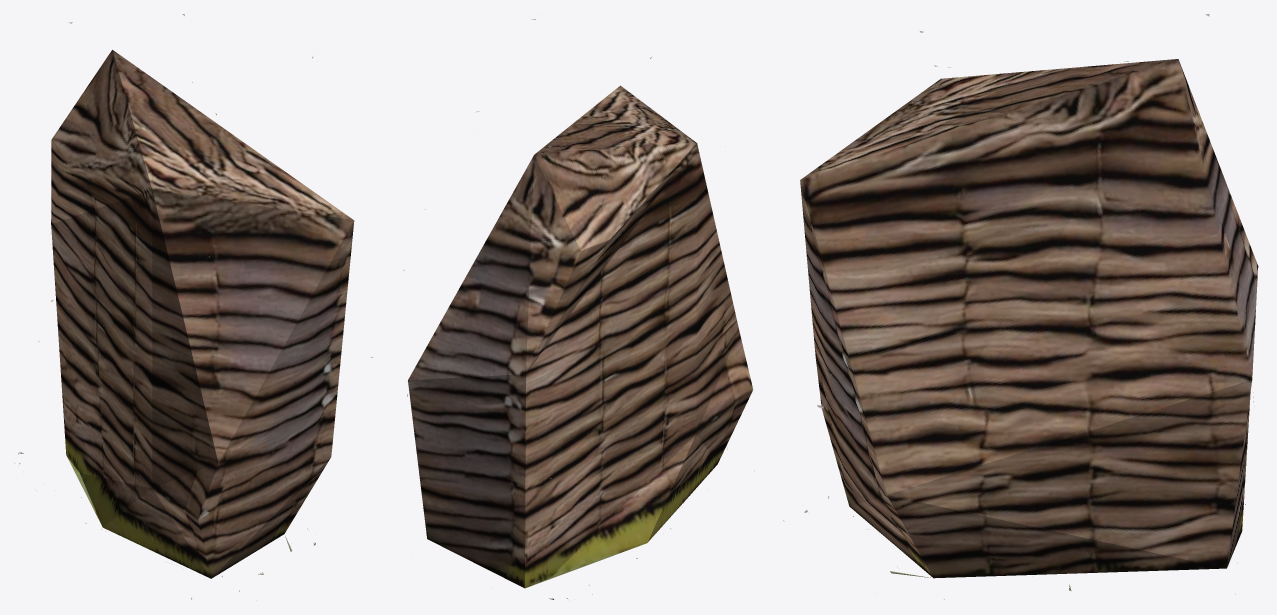
Rendered from ogre_spike_wall_01.glb.
3 views of the same model, side by side, from view 1: azimuth 30°, elevation 25°; view 2: azimuth 150°, elevation 25°; view 3: azimuth 270°, elevation 25° (orthographic). The views are drawn at different scales.
Visible parts, largest first — view 1: geometry_0; view 2: geometry_0; view 3: geometry_0.
Part boxes in pixels (x1,y1,x2,y2): geometry_0: [18, 14, 372, 599]; geometry_0: [403, 19, 753, 599]; geometry_0: [783, 14, 1258, 599].
Bounding box in the file's own units: 0.395 × 0.938 × 0.748.
1 material, 1 textured.
